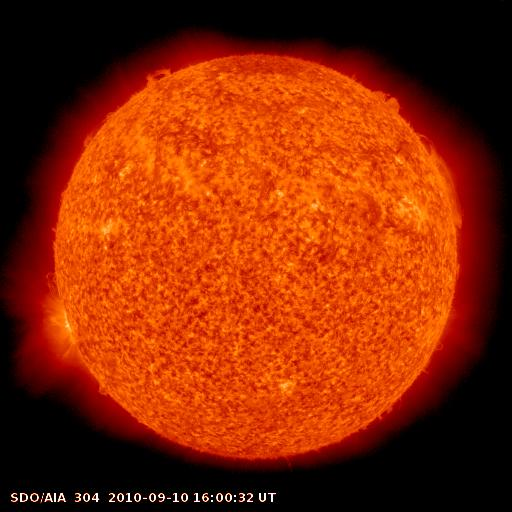prominence: (408, 125, 471, 232), (76, 102, 124, 148), (30, 257, 73, 305), (86, 371, 133, 413), (365, 76, 410, 114), (138, 60, 184, 94)
